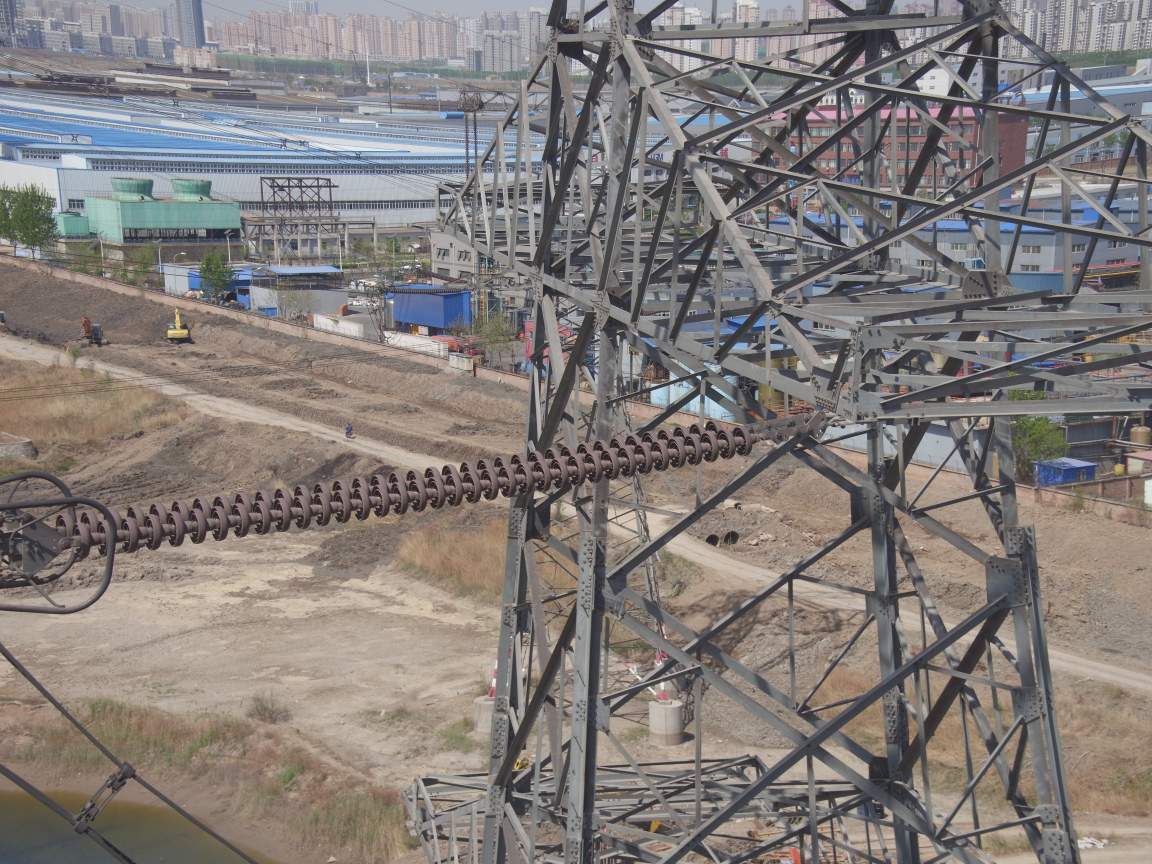insulator: (52, 415, 791, 555)
